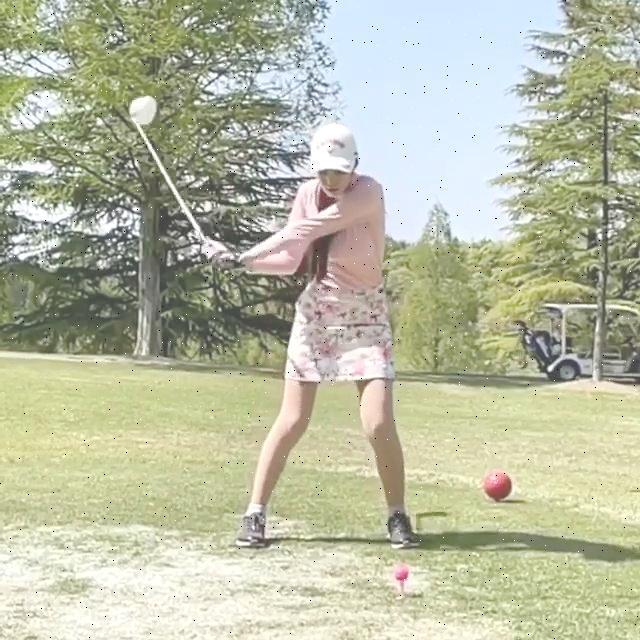ClubHead: (129, 95, 157, 124)
GolfBall: (394, 566, 409, 580)
